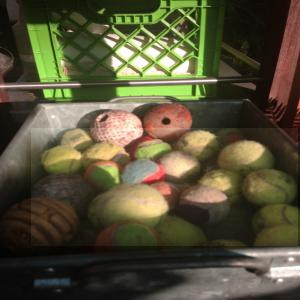TennisBall: (32, 129, 300, 248)
